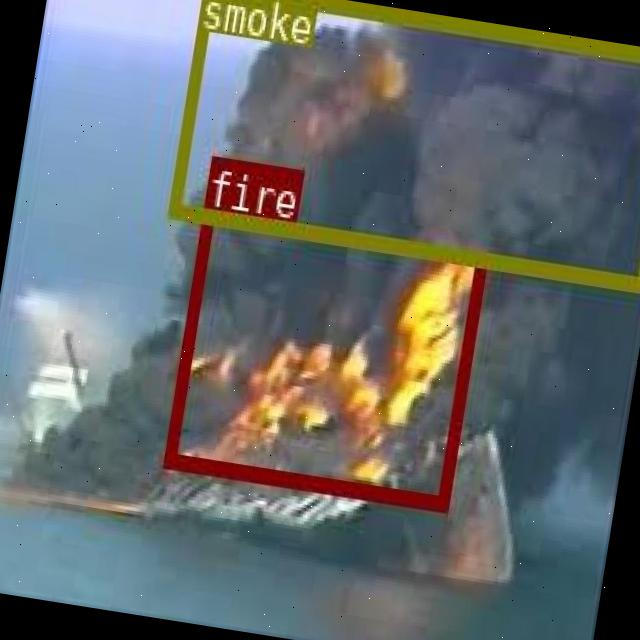fire: (162, 208, 486, 509)
smoke: (168, 0, 640, 288)
